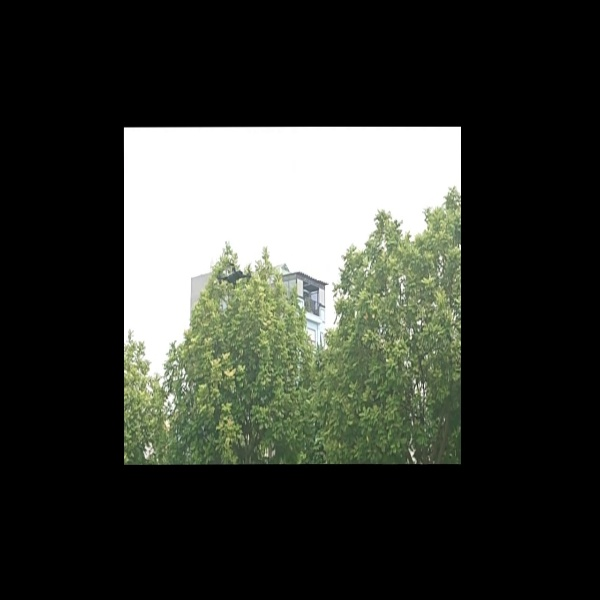drone: (213, 260, 254, 290)
